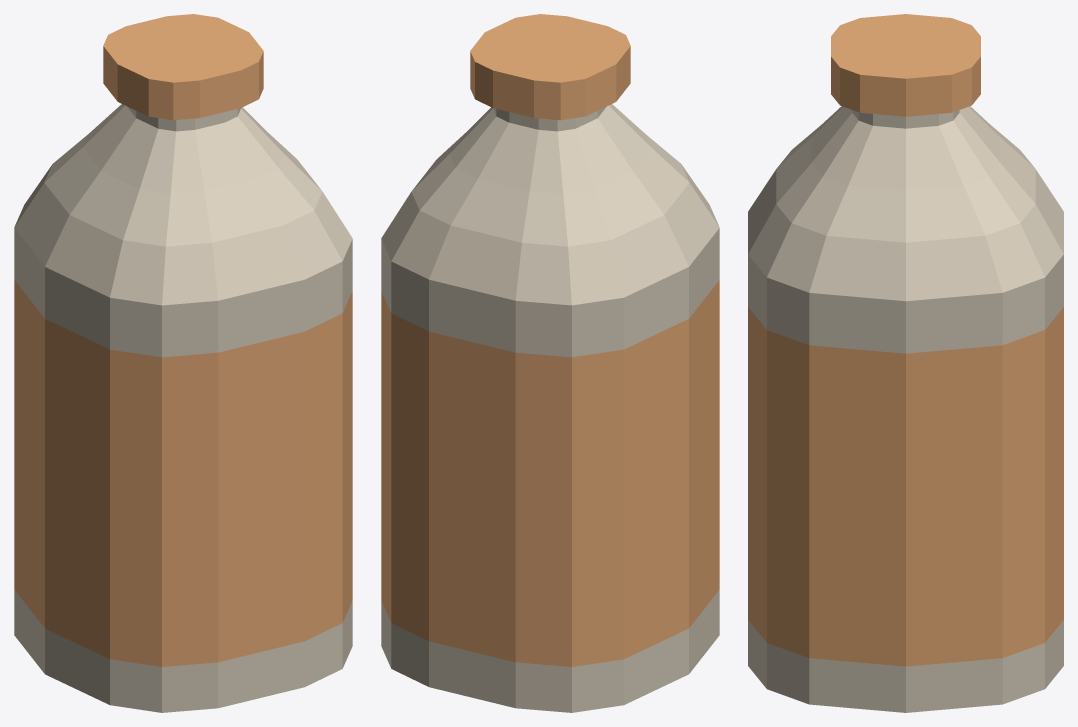
The model's file is rand bottle3.fbx.
The picture shows the model from 3 angles, left to right: view 1: azimuth 30°, elevation 25°; view 2: azimuth 150°, elevation 25°; view 3: azimuth 270°, elevation 25°; orthographic projection.
Visible parts, largest first — view 1: Cube.001; view 2: Cube.001; view 3: Cube.001.
Part boxes in pixels (x1=…): Cube.001: x1=14, y1=14, x2=352, y2=712; Cube.001: x1=381, y1=14, x2=719, y2=712; Cube.001: x1=748, y1=14, x2=1063, y2=712.
Size of the model in its own units: 41.04 by 83.81 by 40.09.
